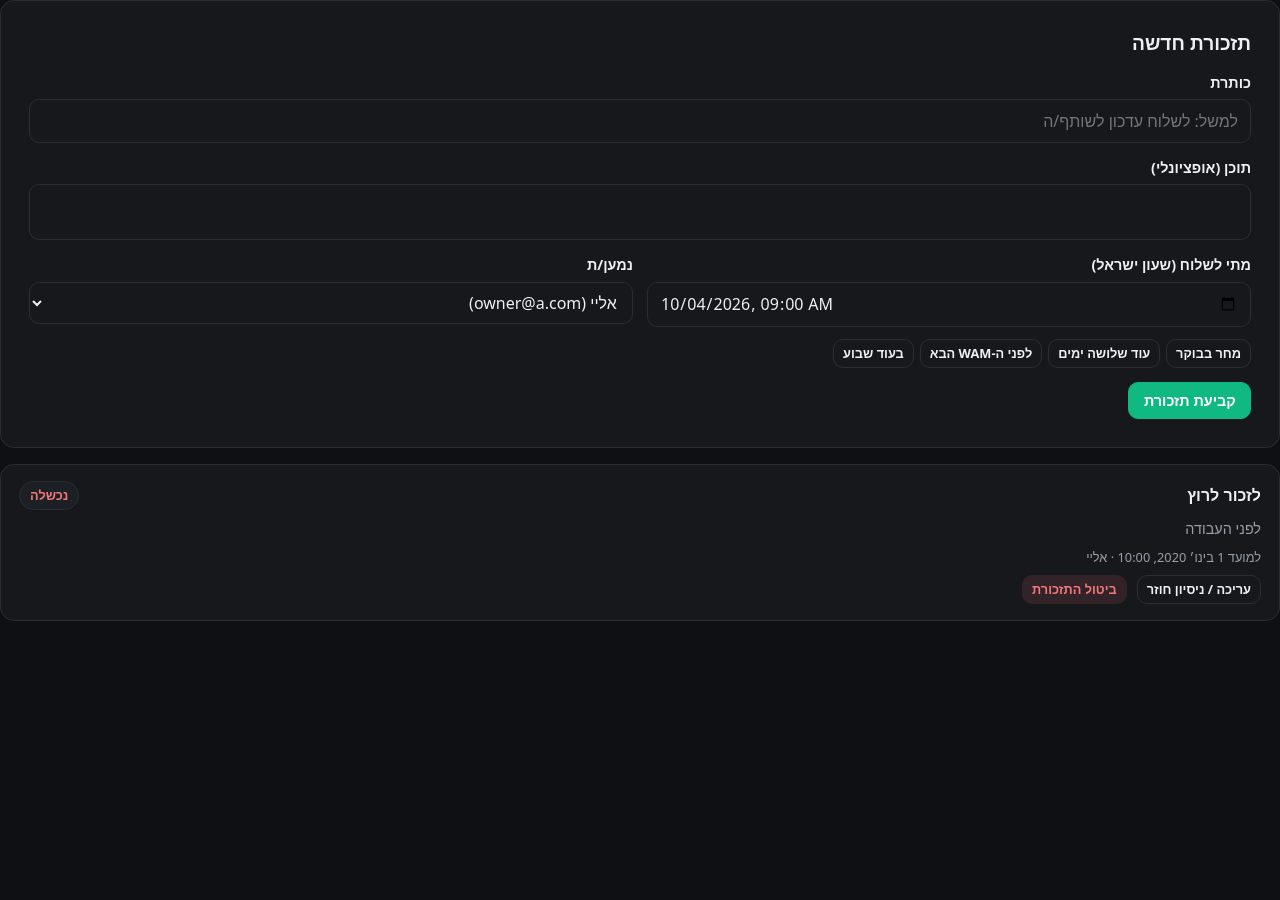
Test: RemindersPage › editing a failed reminder whose original schedule has already passed prefills a new future time (never the stale past one) and explains why
The width and height of the screenshot is (1280, 900).
expect the text "נכשלה" is shown: met, box top-left (19, 481), bottom-right (79, 510)
Click the button "עריכה / ניסיון חוזר": (1199,589) top-left (1137, 575), bottom-right (1261, 604)
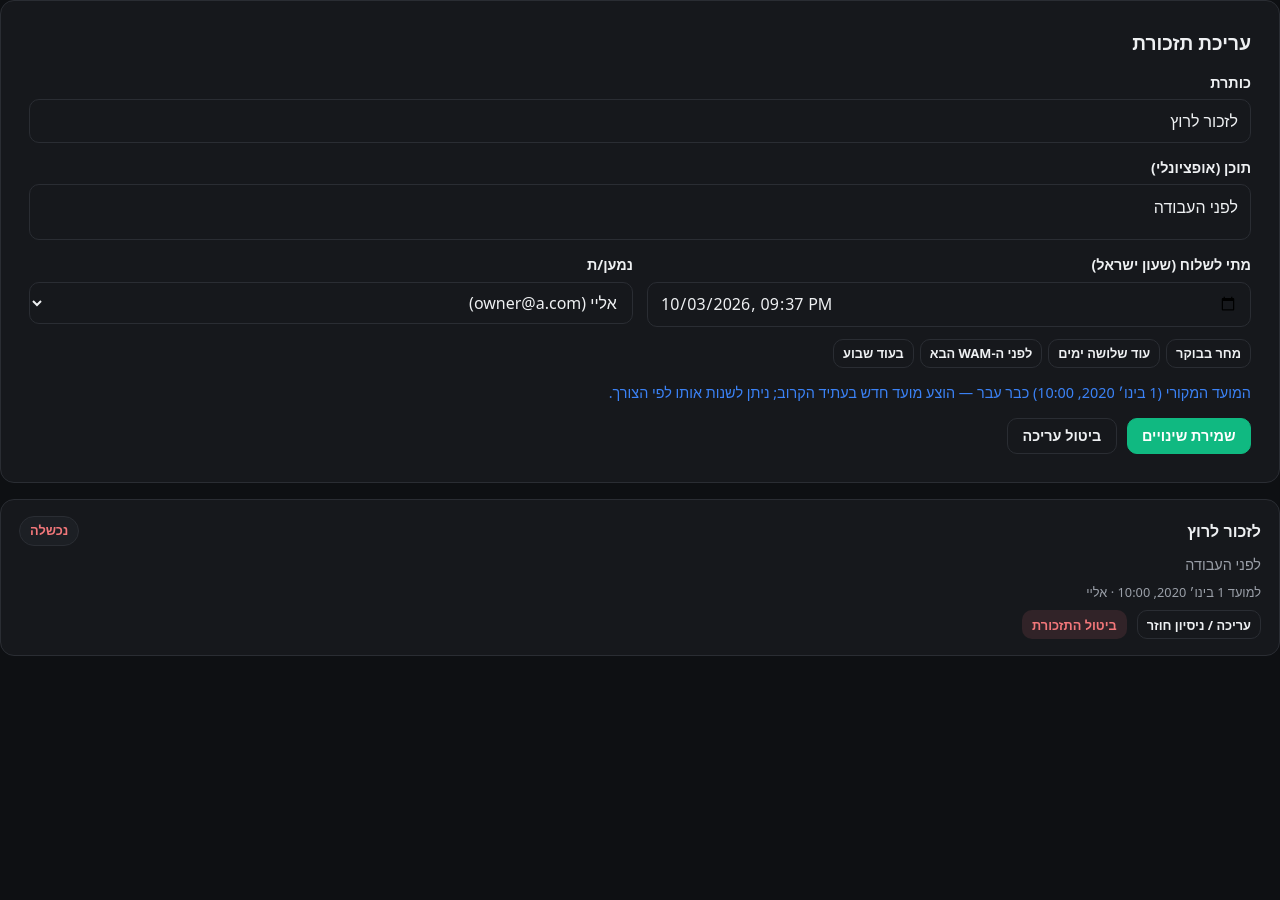
expect the field labelled "מתי לשלוח (שעון ישראל)" does not hold "2020-01-01T10:00": met, box top-left (647, 282), bottom-right (1251, 327)
